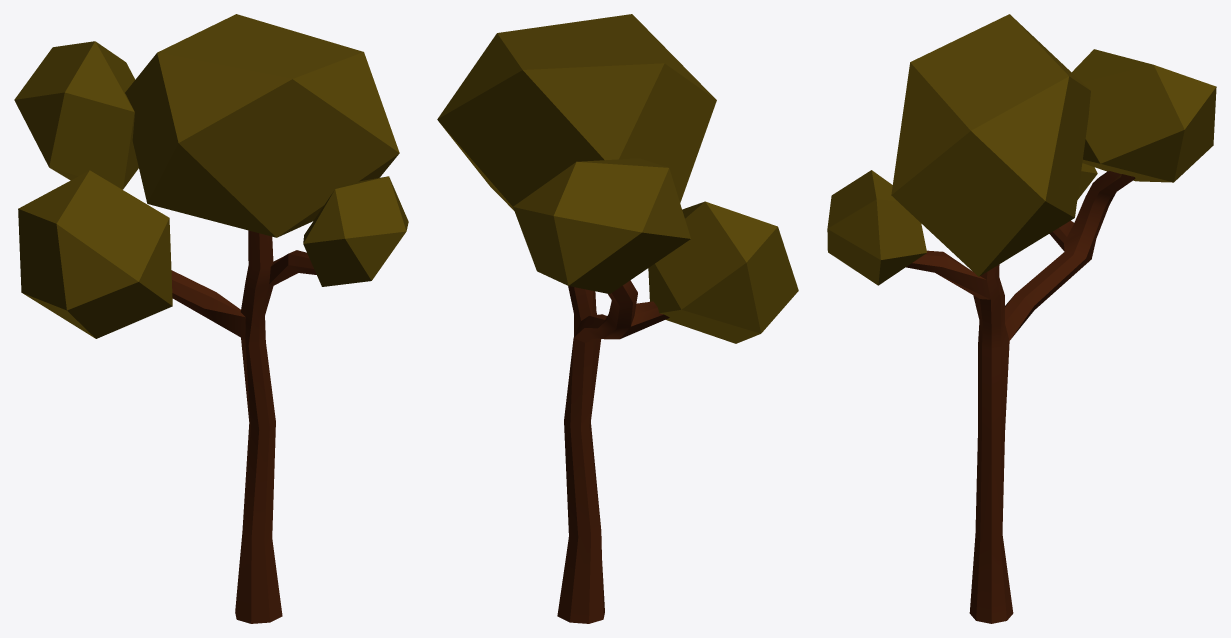
File: tree_separate_unityready.fbx
3 views of the same model, side by side, from view 1: azimuth 30°, elevation 25°; view 2: azimuth 150°, elevation 25°; view 3: azimuth 270°, elevation 25° (orthographic). The views are drawn at different scales.
Visible parts, largest first — view 1: blob4, blob2, stem, blob1, blob3; view 2: blob4, blob1, blob2, stem; view 3: blob4, stem, blob1, blob3.
Boxes of the visible parts, x1,y1,x2,y2 form: blob4: [125, 14, 399, 237]; blob2: [18, 170, 172, 338]; stem: [171, 230, 316, 623]; blob1: [14, 41, 138, 189]; blob3: [303, 176, 408, 286]; blob4: [437, 14, 716, 210]; blob1: [513, 158, 690, 293]; blob2: [648, 201, 798, 343]; stem: [557, 280, 669, 623]; blob4: [891, 14, 1090, 276]; stem: [906, 171, 1135, 623]; blob1: [1072, 49, 1216, 182]; blob3: [827, 170, 926, 285].
Size of the model in its own units: 448 by 764 by 484.
